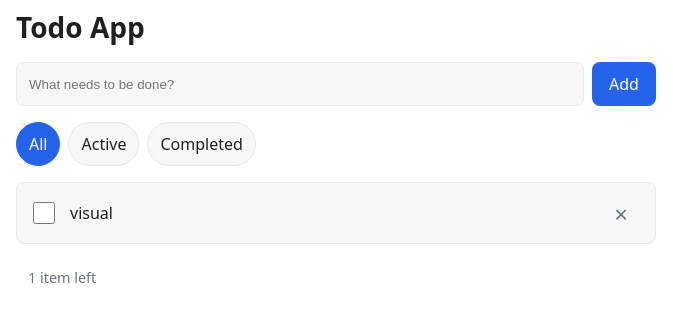
Scenario: <TodoItem /> visual differentiation (FR5) › toggling a row adds the is-completed class to its <li>
Check: the list item named "mark \"visual\" as complete" is shown, box [16,182,656,244]
Click the checkbox named "mark \"visual\" as complete" at [44, 213], box [33,202,55,224]
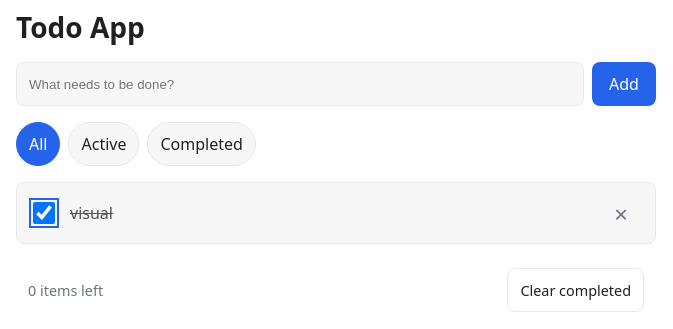
Check: the checkbox named "mark \"visual\" as active" is shown, box [33,202,55,224]
